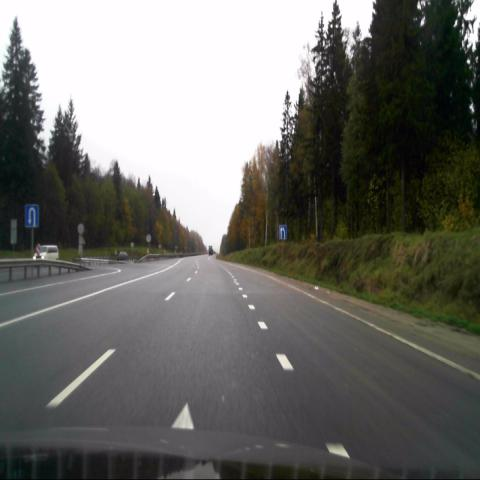6_3_1: (26, 202, 39, 227)
